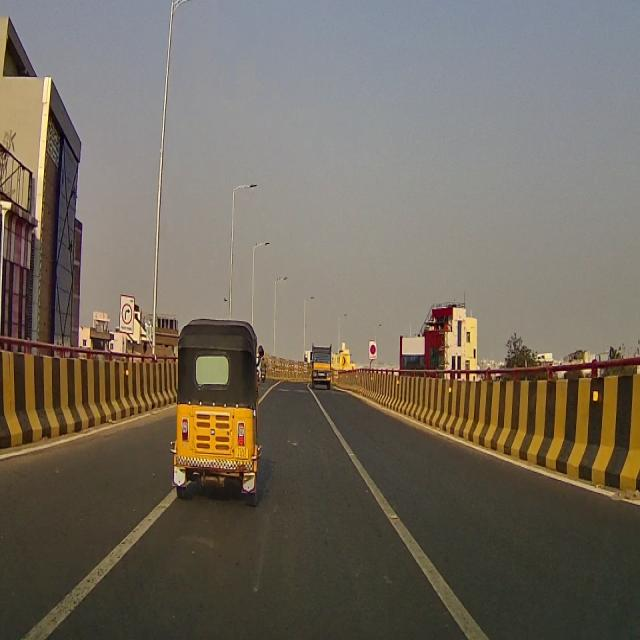auto ahead at: (175, 317, 262, 505)
